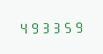five: (62, 19, 72, 33)
four: (17, 20, 27, 34)
nine: (28, 20, 38, 34), (73, 19, 83, 33)
three: (40, 20, 50, 34), (51, 20, 61, 33)
